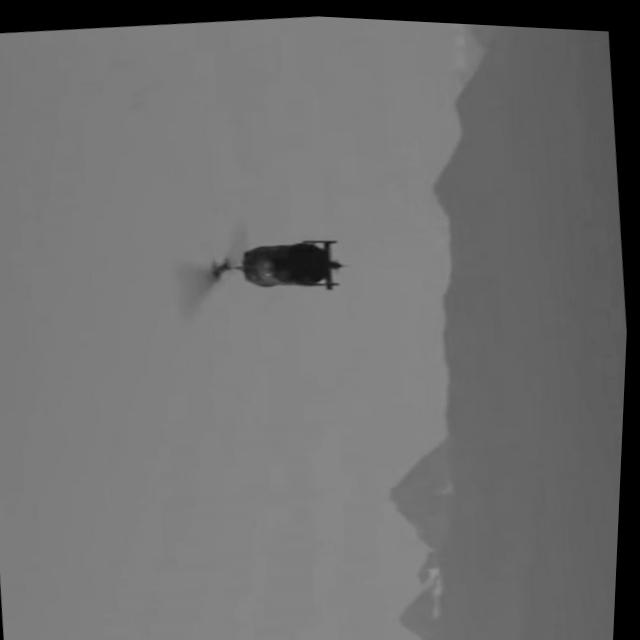helikopter: (169, 185, 386, 342)
